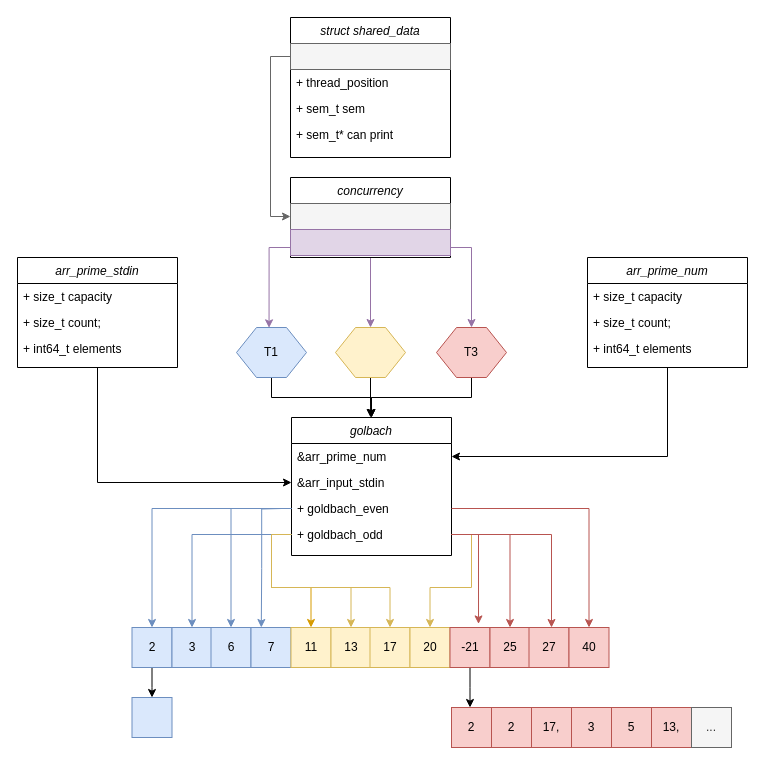
This 765x765 diagram has some shape labels left out. The shapes that lost their labels are listed below. From the top down, each one's centre as x and y in pixels, then its label:
At (370,56): "+ thread_count".
At (370,216): "+ create_threads".
At (370,242): "* run".
At (370,352): "T2".
At (151,717): "NA".
